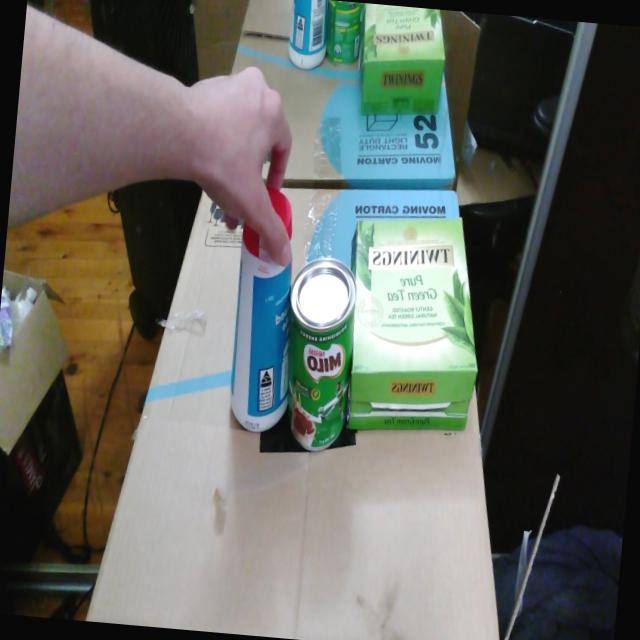nestle_milo_tin: (287, 257, 356, 450)
twinings_greentea_box: (347, 217, 477, 430)
woolworths_salt_bottle: (229, 221, 290, 432), (266, 187, 292, 241)
